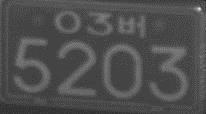0: (100, 42, 143, 100), (53, 9, 82, 34)
2: (56, 39, 97, 98)
3: (149, 44, 188, 103), (86, 10, 113, 36)
5: (13, 36, 51, 93)
버: (117, 14, 146, 40)
